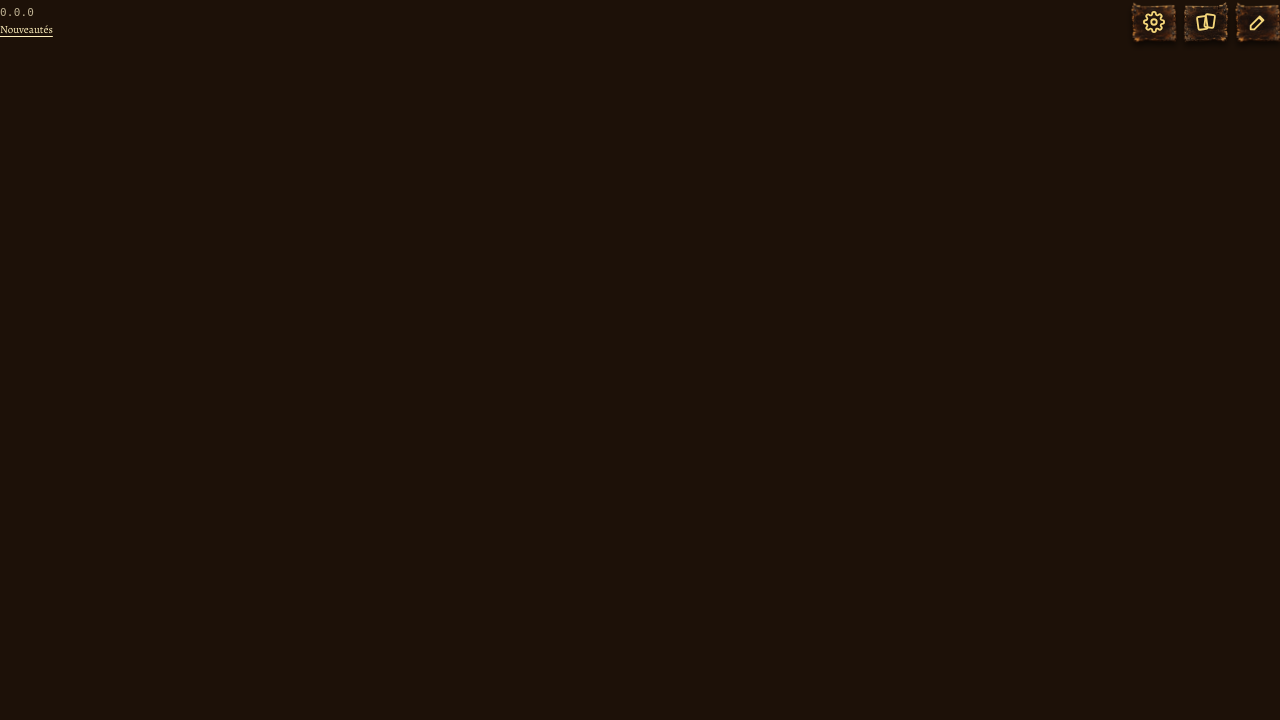
it: l’engrenage › ne propose l’essayage des sons QU’HORS partie (à table, il ouvrirait « Quitter la table ? »)
Click the button with test id "reglages-open" at (1154, 22), box left=1132, top=0, right=1176, bottom=44
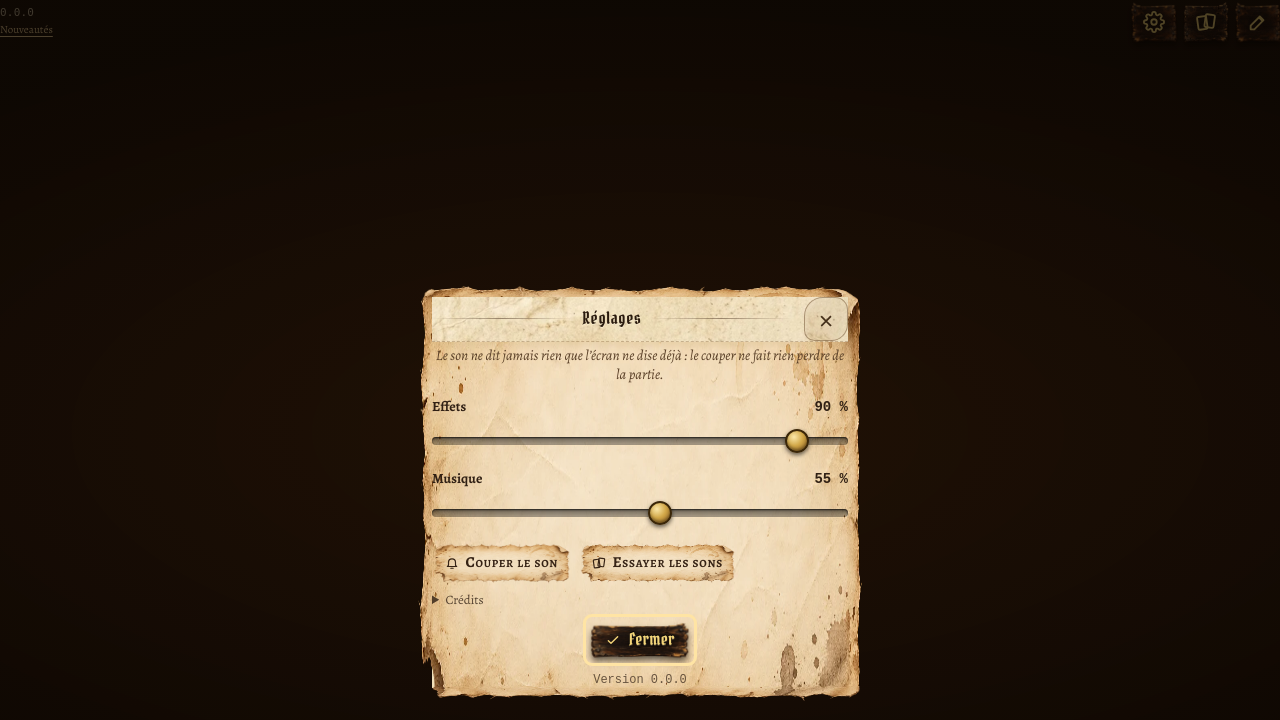
Expected: the button with test id "reglages-son-essayage" is shown
Click the button with test id "reglages-son-essayage" at (657, 563), box left=579, top=541, right=736, bottom=585
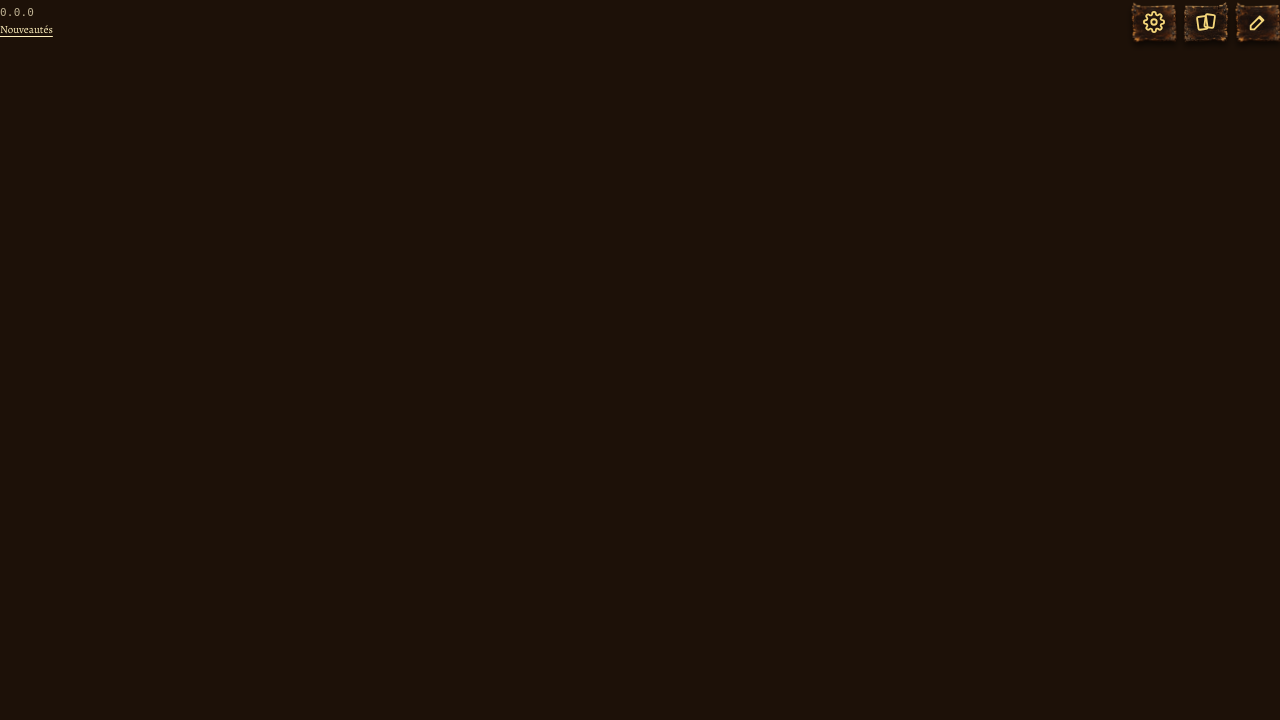
Expected: the dialog with test id "reglages-sheet" is gone
Click the button with test id "reglages-open" at (1154, 22), box left=1132, top=0, right=1176, bottom=44
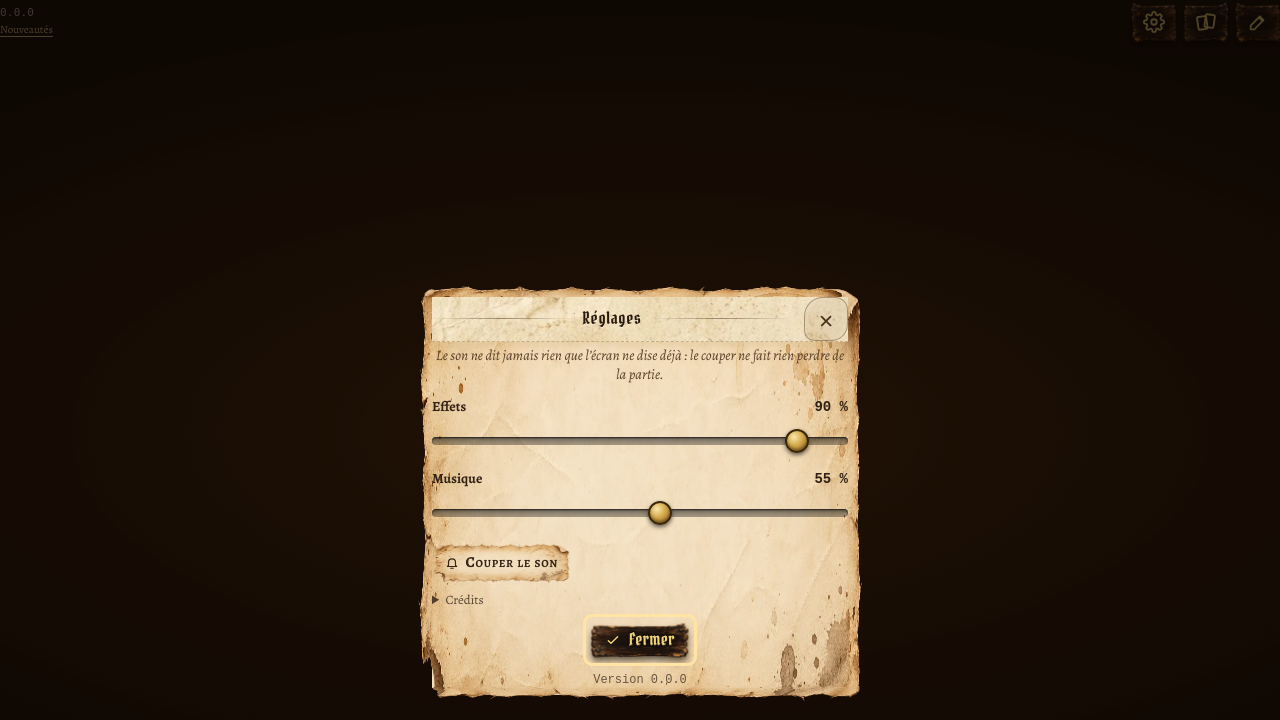
Expected: the dialog with test id "reglages-sheet" is shown, left=416, top=281, right=864, bottom=704
